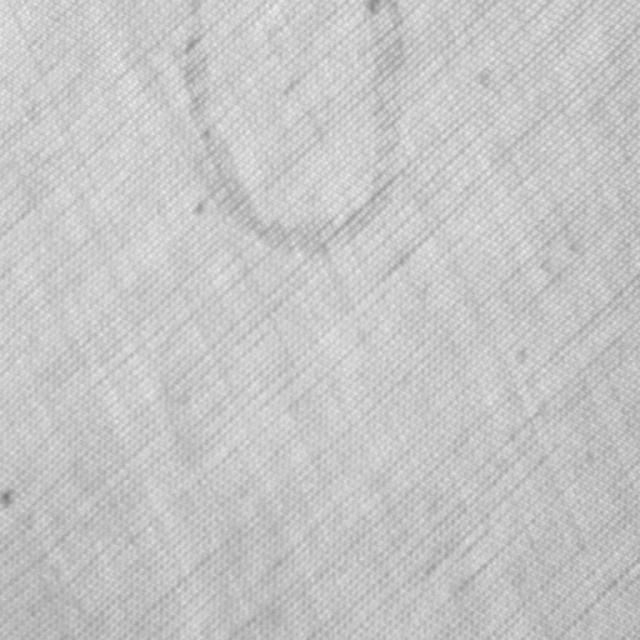oil spot: (182, 0, 408, 258)
